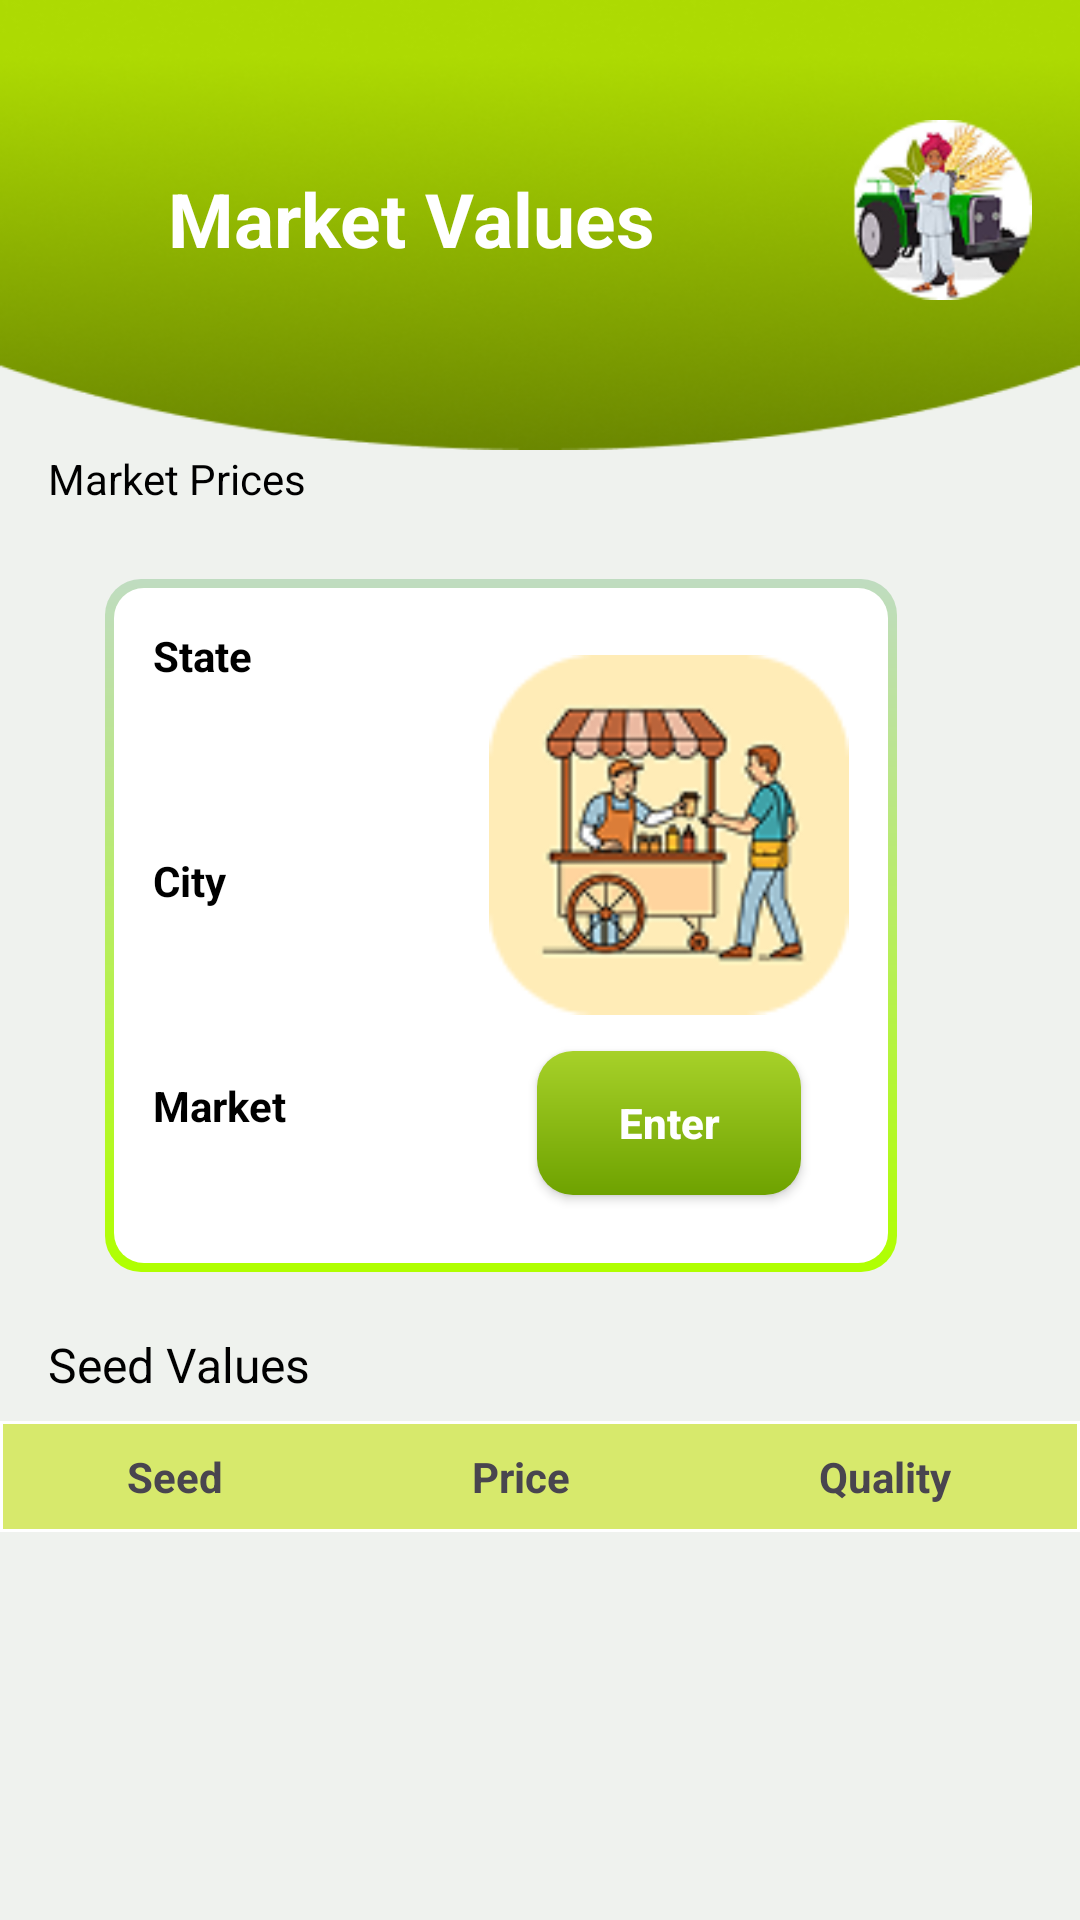

Named icons in this screenshot (1080×1920) and their centers, (x,y):
profilep: (942,210)
shopsign: (669,835)
